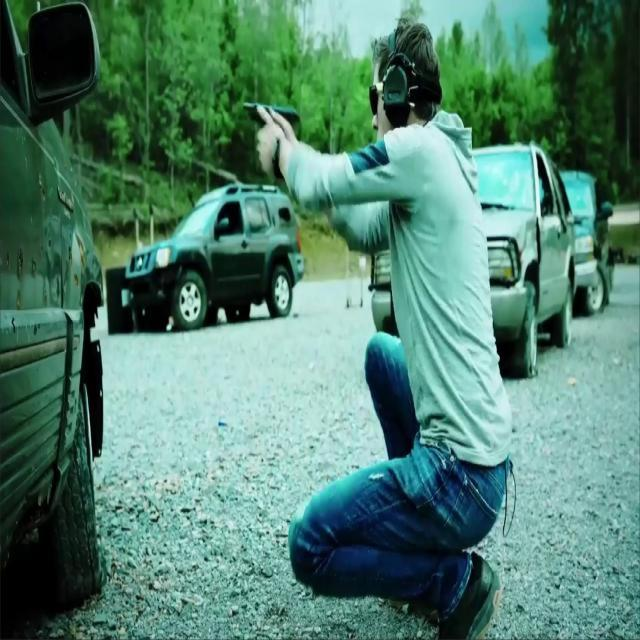weapon: (242, 102, 300, 180)
